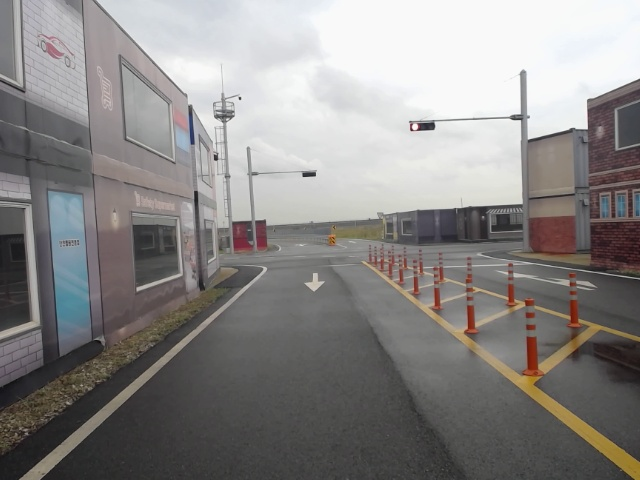red_3: (410, 121, 436, 132)
